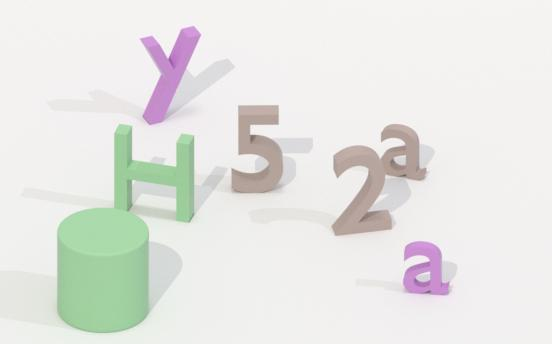chu_khoi: (114, 124, 194, 221), (141, 26, 200, 123), (381, 124, 426, 179), (403, 241, 448, 294)
so_khoi: (332, 145, 391, 234), (232, 105, 282, 192)
tru: (57, 208, 148, 331)
